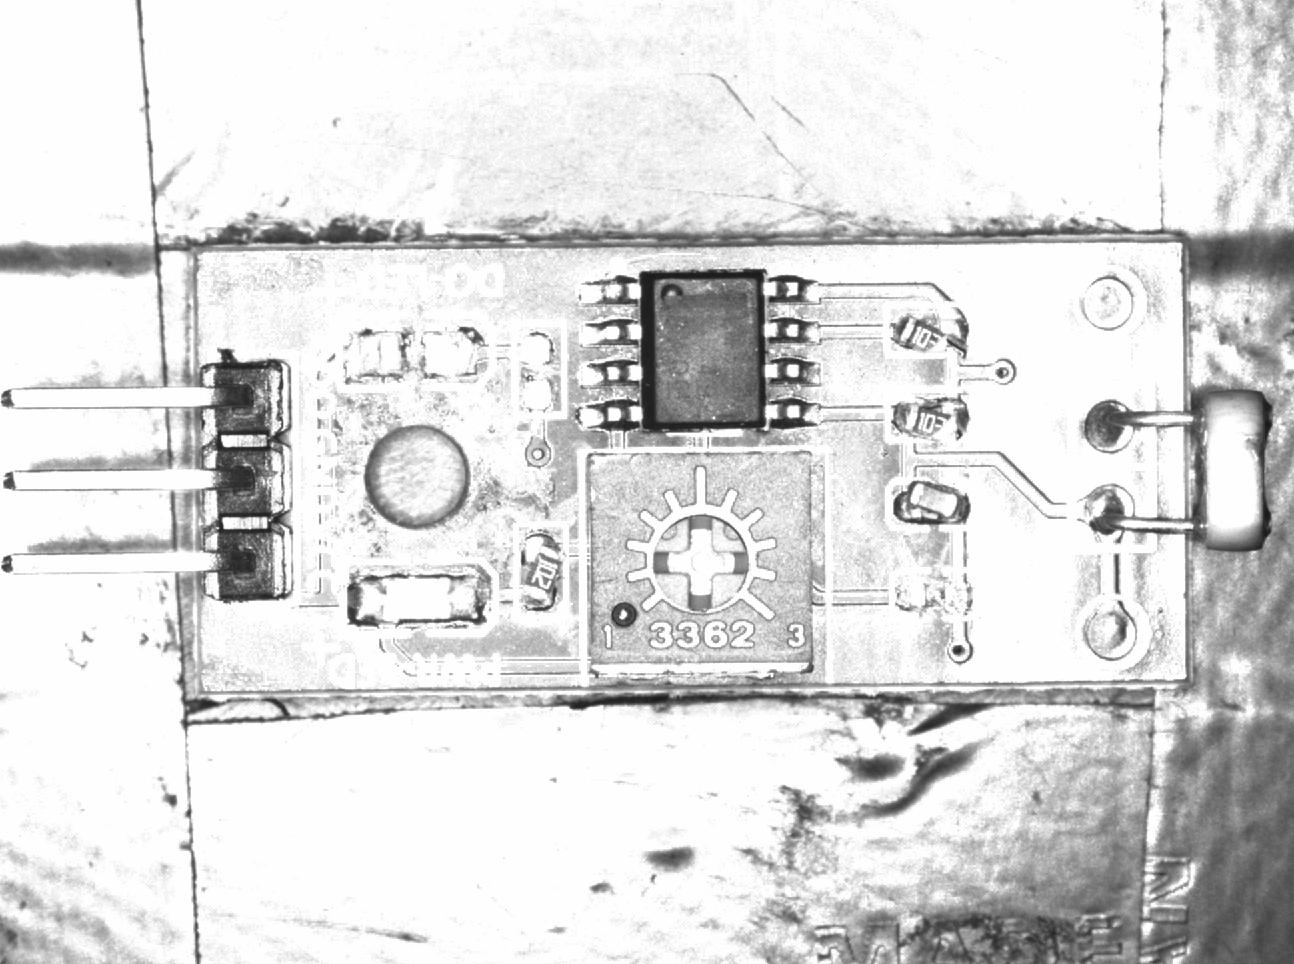lifted: (886, 479, 976, 534), (518, 523, 569, 619), (887, 390, 974, 444), (887, 302, 962, 360)
miss: (511, 324, 567, 417), (887, 567, 978, 620)
